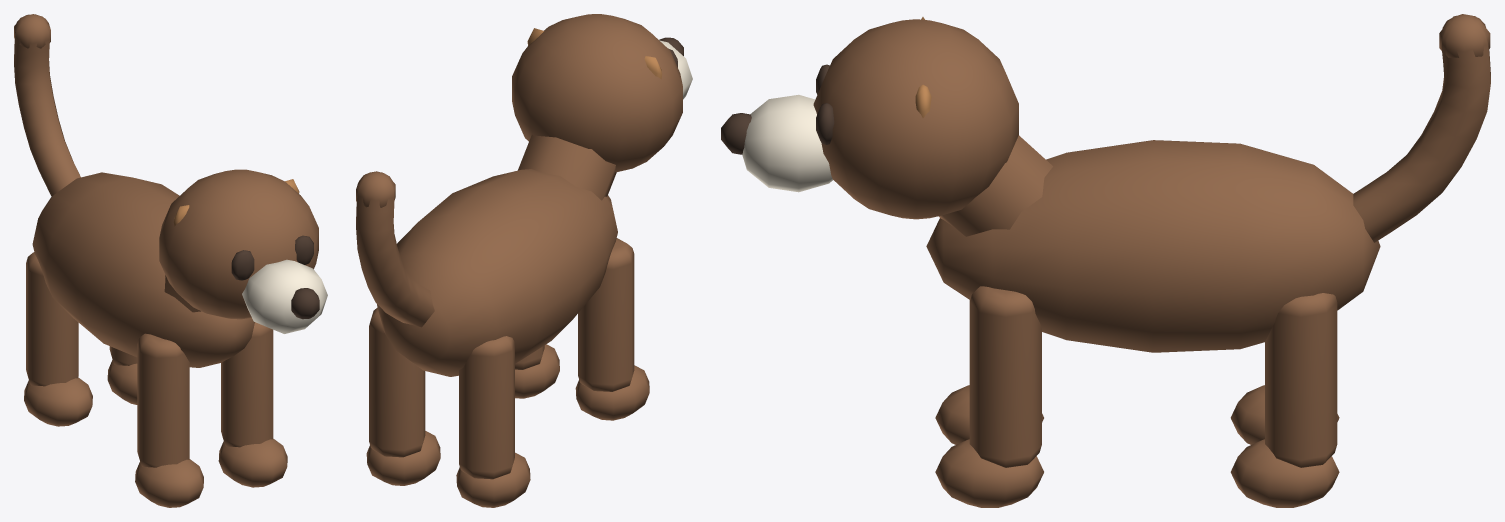
The model's file is pet_puppy_brown.glb.
The picture shows the model from 3 angles, left to right: view 1: azimuth 30°, elevation 25°; view 2: azimuth 150°, elevation 25°; view 3: azimuth 270°, elevation 25°; orthographic projection. The views are drawn at different scales.
Visible parts, largest first — view 1: pet_puppy_brown_mesh, pet_puppy_brown_Head_mesh, pet_puppy_brown_LegFL_mesh, pet_puppy_brown_LegFR_mesh, pet_puppy_brown_LegBL_mesh, pet_puppy_brown_Tail_mesh, pet_puppy_brown_LegBR_mesh; view 2: pet_puppy_brown_mesh, pet_puppy_brown_Head_mesh, pet_puppy_brown_LegBL_mesh, pet_puppy_brown_LegFL_mesh, pet_puppy_brown_LegBR_mesh, pet_puppy_brown_Tail_mesh, pet_puppy_brown_LegFR_mesh; view 3: pet_puppy_brown_mesh, pet_puppy_brown_Head_mesh, pet_puppy_brown_LegFR_mesh, pet_puppy_brown_LegBR_mesh, pet_puppy_brown_Tail_mesh, pet_puppy_brown_LegFL_mesh, pet_puppy_brown_LegBL_mesh.
Boxes of the visible parts, x1,y1,x2,y2 form: pet_puppy_brown_mesh: (32, 172, 254, 367); pet_puppy_brown_Head_mesh: (159, 169, 327, 333); pet_puppy_brown_LegFL_mesh: (135, 333, 203, 507); pet_puppy_brown_LegFR_mesh: (218, 322, 287, 487); pet_puppy_brown_LegBL_mesh: (24, 252, 92, 426); pet_puppy_brown_Tail_mesh: (14, 14, 80, 196); pet_puppy_brown_LegBR_mesh: (107, 346, 137, 404); pet_puppy_brown_mesh: (377, 169, 617, 376); pet_puppy_brown_Head_mesh: (512, 14, 692, 200); pet_puppy_brown_LegBL_mesh: (456, 336, 530, 507); pet_puppy_brown_LegFL_mesh: (575, 238, 649, 420); pet_puppy_brown_LegBR_mesh: (366, 307, 440, 485); pet_puppy_brown_Tail_mesh: (356, 171, 434, 327); pet_puppy_brown_LegFR_mesh: (515, 344, 559, 398); pet_puppy_brown_mesh: (926, 140, 1380, 352); pet_puppy_brown_Head_mesh: (721, 17, 1052, 236); pet_puppy_brown_LegFR_mesh: (935, 286, 1043, 507); pet_puppy_brown_LegBR_mesh: (1230, 293, 1339, 507); pet_puppy_brown_Tail_mesh: (1353, 14, 1490, 242); pet_puppy_brown_LegFL_mesh: (935, 300, 1043, 444); pet_puppy_brown_LegBL_mesh: (1230, 385, 1339, 444).
Size of the model in its own units: 0.1275 by 0.2846 by 0.4321.
